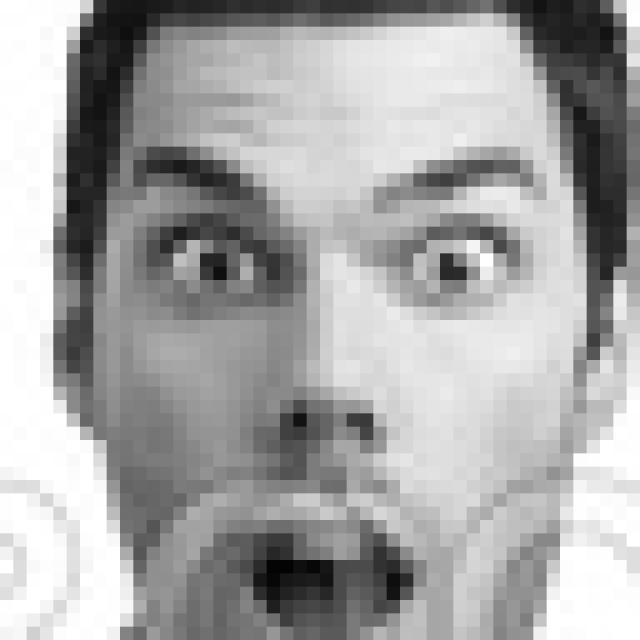surprise: (125, 139, 552, 640)
